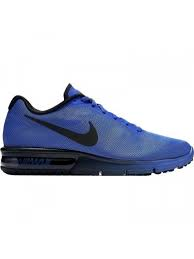nike: (26, 113, 98, 146)
